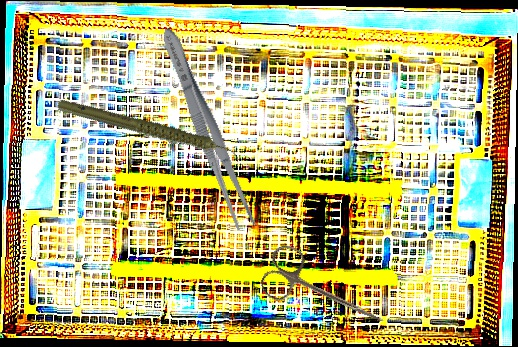Dressing Forceps: (153, 23, 261, 234)
Handpiece: (54, 63, 243, 200)
Iris Scissors: (256, 241, 396, 344)
